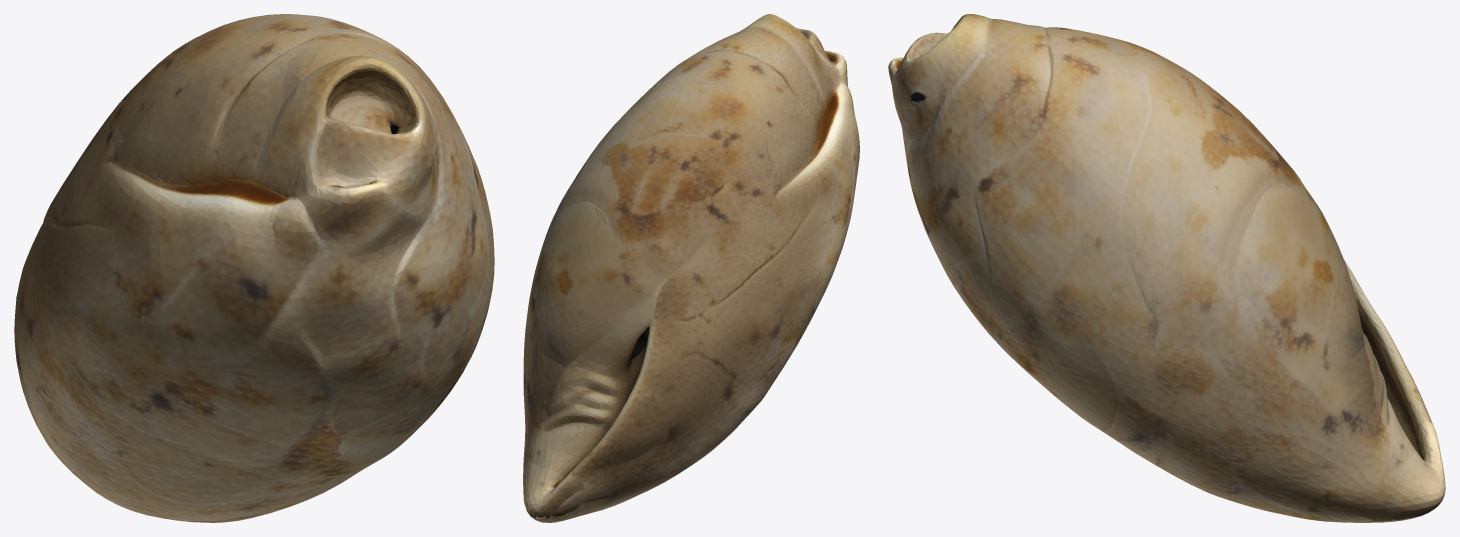
3 views of the same model, side by side, from view 1: azimuth 30°, elevation 25°; view 2: azimuth 150°, elevation 25°; view 3: azimuth 270°, elevation 25° (orthographic). The views are drawn at different scales.
Visible parts, largest first — view 1: world; view 2: world; view 3: world.
Part boxes in pixels (left/top/right/bottom): world: left=14, top=14, right=494, bottom=522; world: left=523, top=14, right=859, bottom=522; world: left=888, top=14, right=1445, bottom=522.
Size of the model in its own units: 0.6005 by 0.9006 by 0.9572.
Materials: 1 (1 with a texture image).
